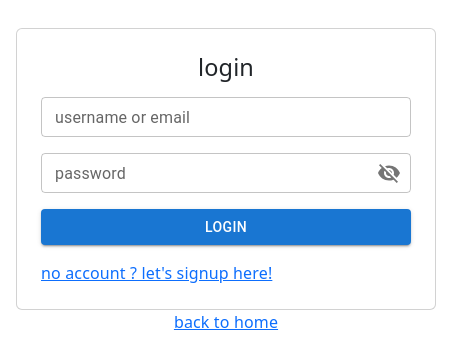
login page › shows error when password is too short
In the field labelled "username or email": point(226, 117) [41, 97, 411, 137], type "john"
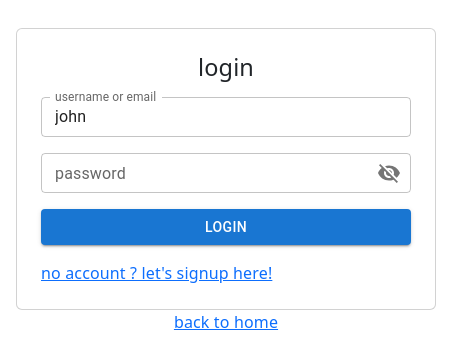
In the password field labelled "password": point(201, 173) [41, 153, 361, 193], type "123"
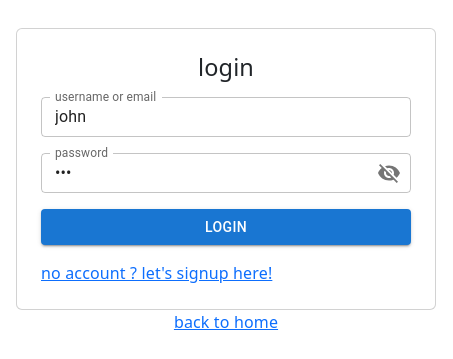
Click the button "login": point(226, 227) [41, 209, 411, 245]
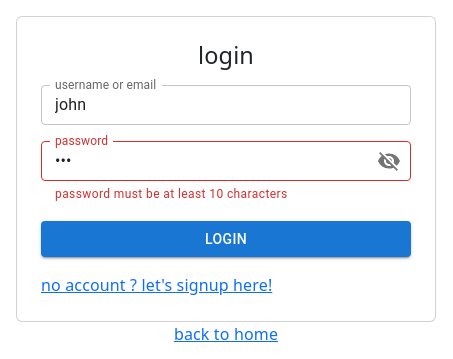
Check: the text "password must be at least 10 characters" is shown, box [55, 187, 288, 201]
